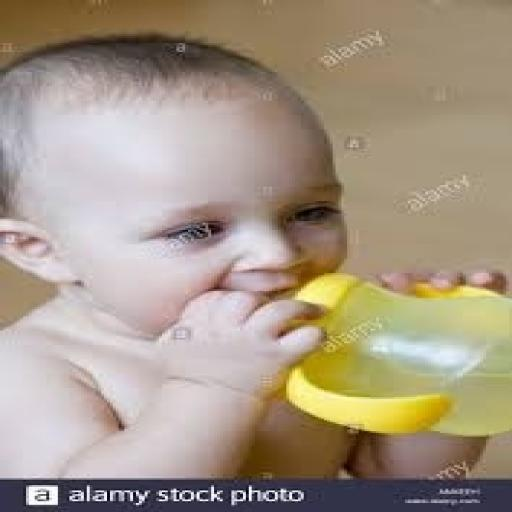drinking: (266, 268, 509, 436)
